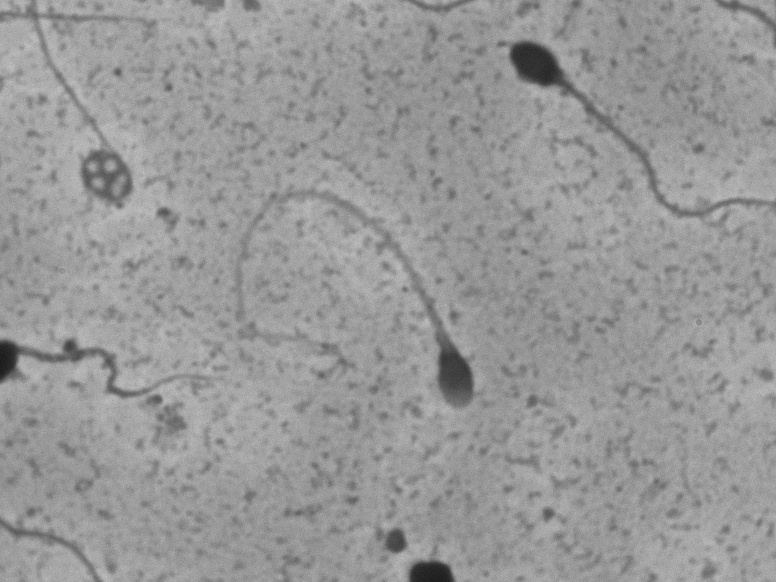Normal: (198, 170, 508, 435), (487, 27, 768, 259)
